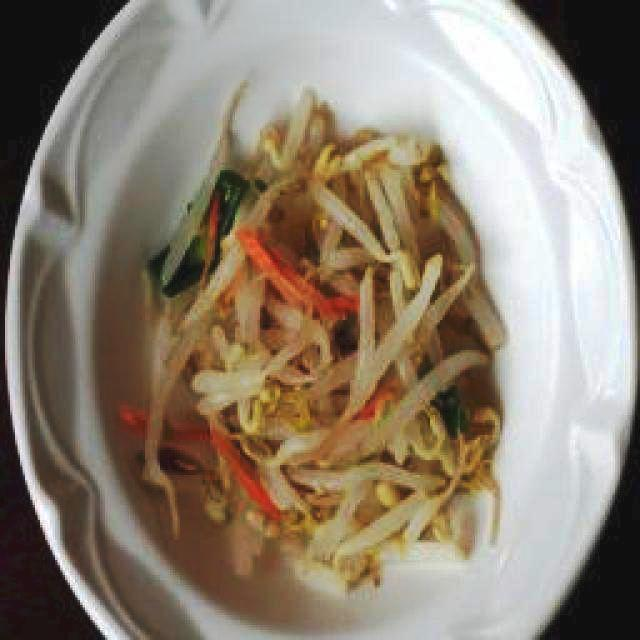mung_bean_sprouts: (157, 83, 507, 593)
